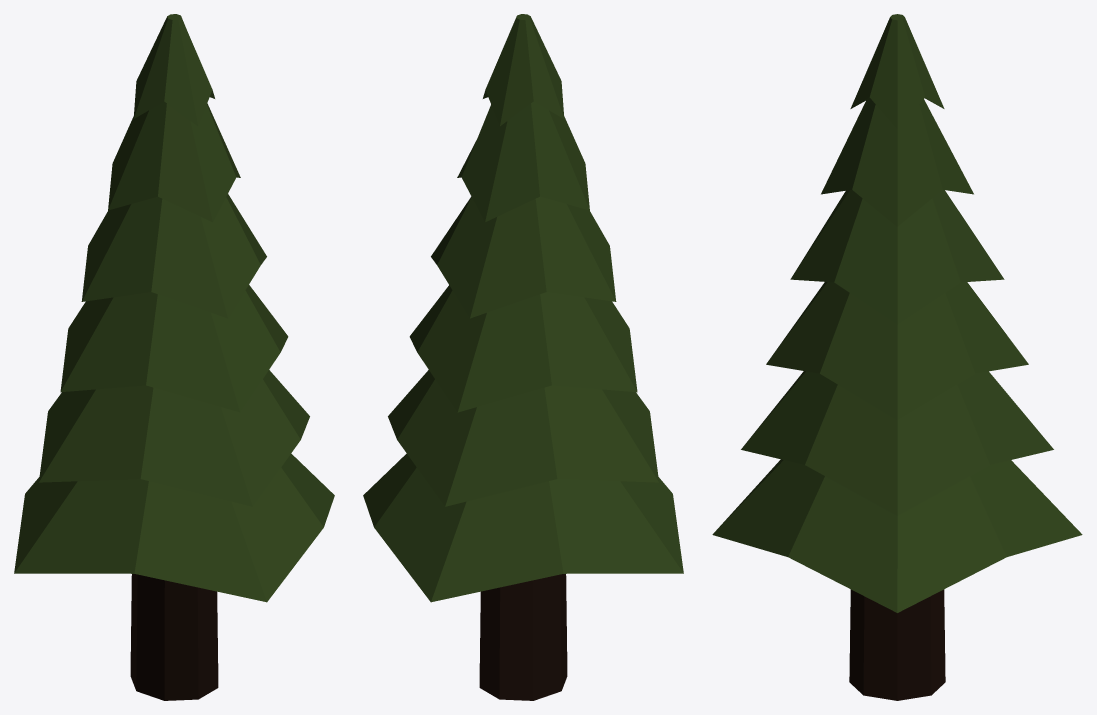
File: Tree4.FBX
The picture shows the model from 3 angles, left to right: view 1: azimuth 30°, elevation 25°; view 2: azimuth 150°, elevation 25°; view 3: azimuth 270°, elevation 25°; orthographic projection.
Visible parts, largest first — view 1: pine tree; view 2: pine tree; view 3: pine tree.
Part boxes in pixels (bbox=[...]): pine tree: bbox=[14, 14, 334, 700]; pine tree: bbox=[363, 14, 683, 700]; pine tree: bbox=[712, 14, 1082, 700].
Size of the model in its own units: 1216 by 2408 by 1216.
